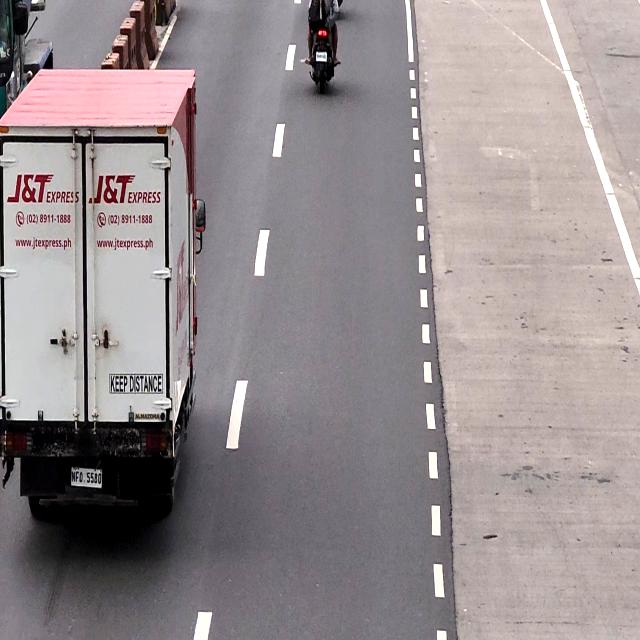License-Plate: (68, 464, 103, 491), (316, 50, 328, 62)
Motorcycle: (305, 0, 339, 97)
Truck: (0, 64, 197, 544)
